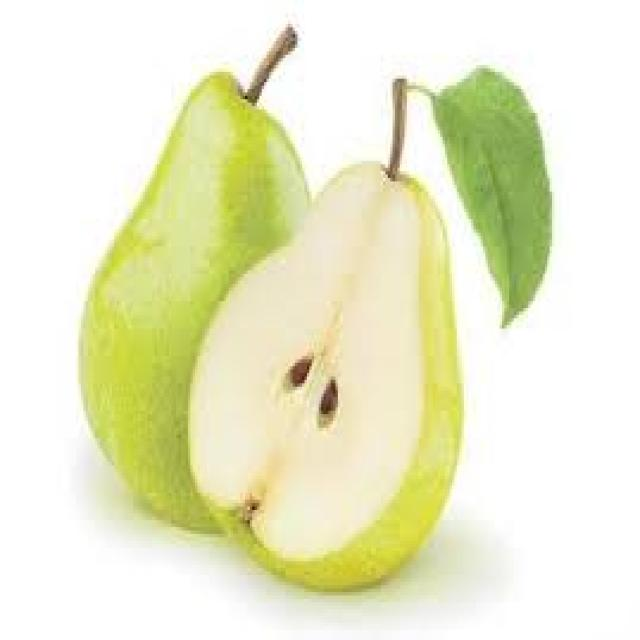Organik: (192, 57, 555, 599), (74, 14, 305, 559)
